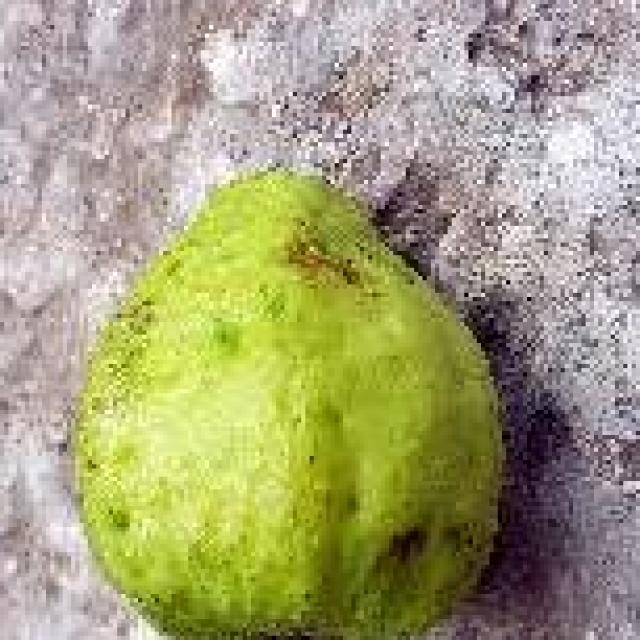Good_Guava 5-7 days: (75, 174, 502, 640)
